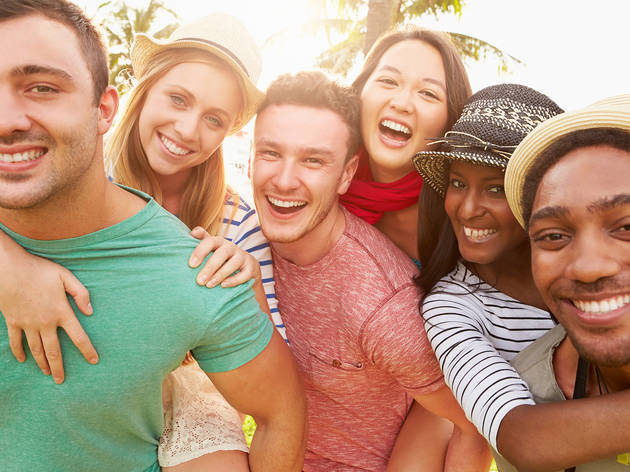bare: (531, 253, 630, 362), (1, 102, 97, 209), (249, 172, 334, 244), (438, 195, 516, 263), (363, 98, 432, 166), (137, 120, 216, 175)
